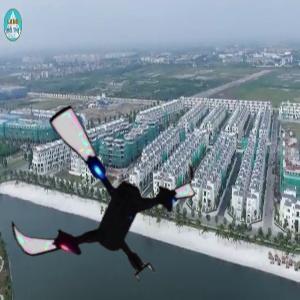drone: (1, 98, 199, 296)
